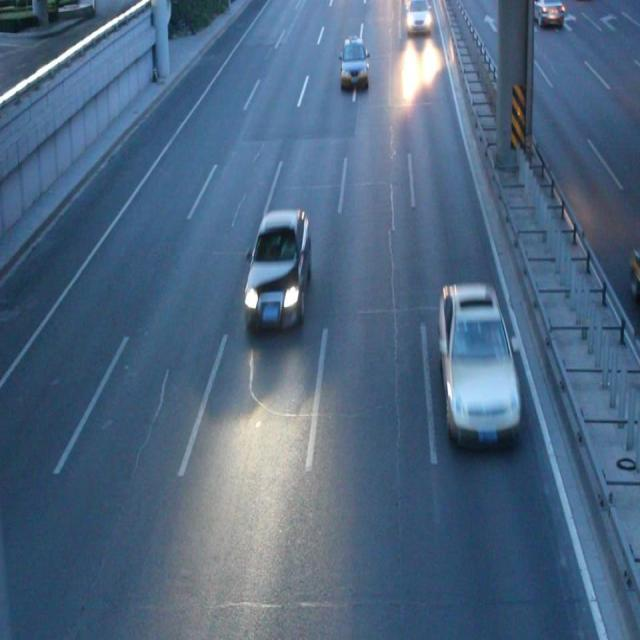car: (438, 283, 518, 430), (247, 211, 309, 322), (339, 40, 368, 87), (526, 1, 562, 26), (407, 1, 428, 29), (630, 243, 640, 301)
